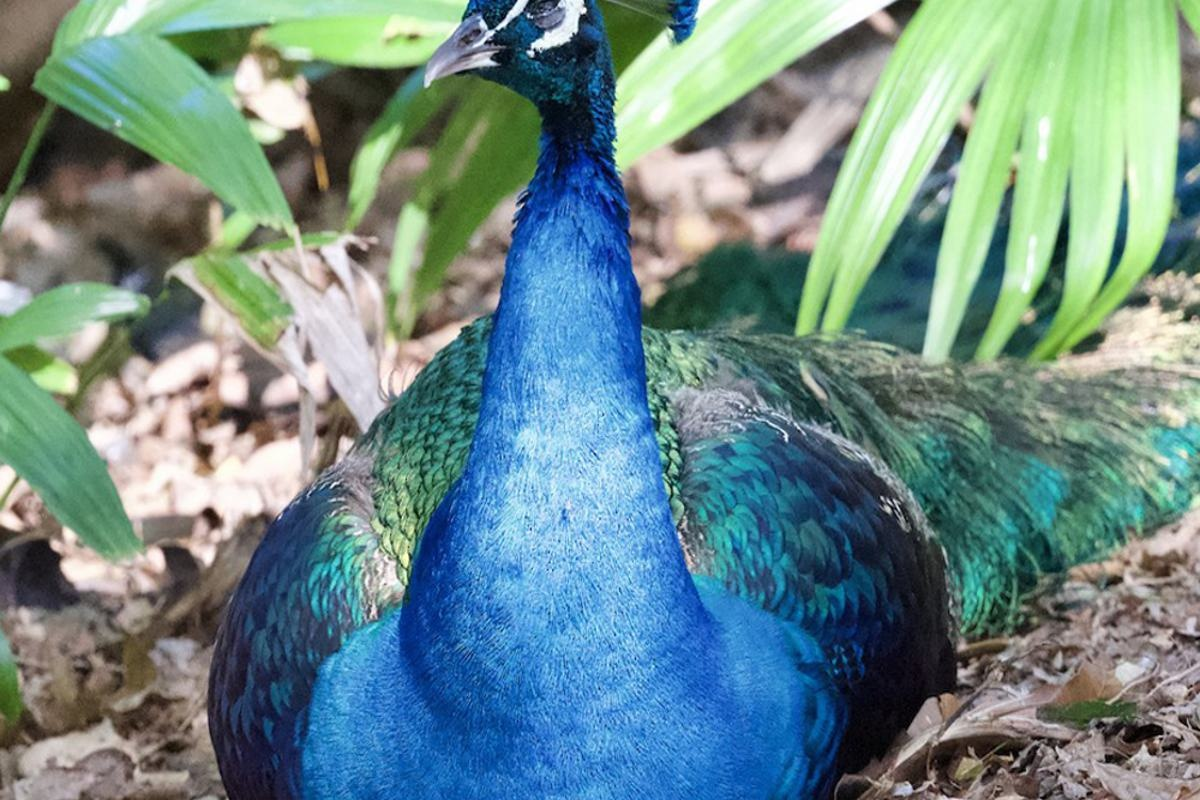peacock: (287, 5, 1020, 786)
